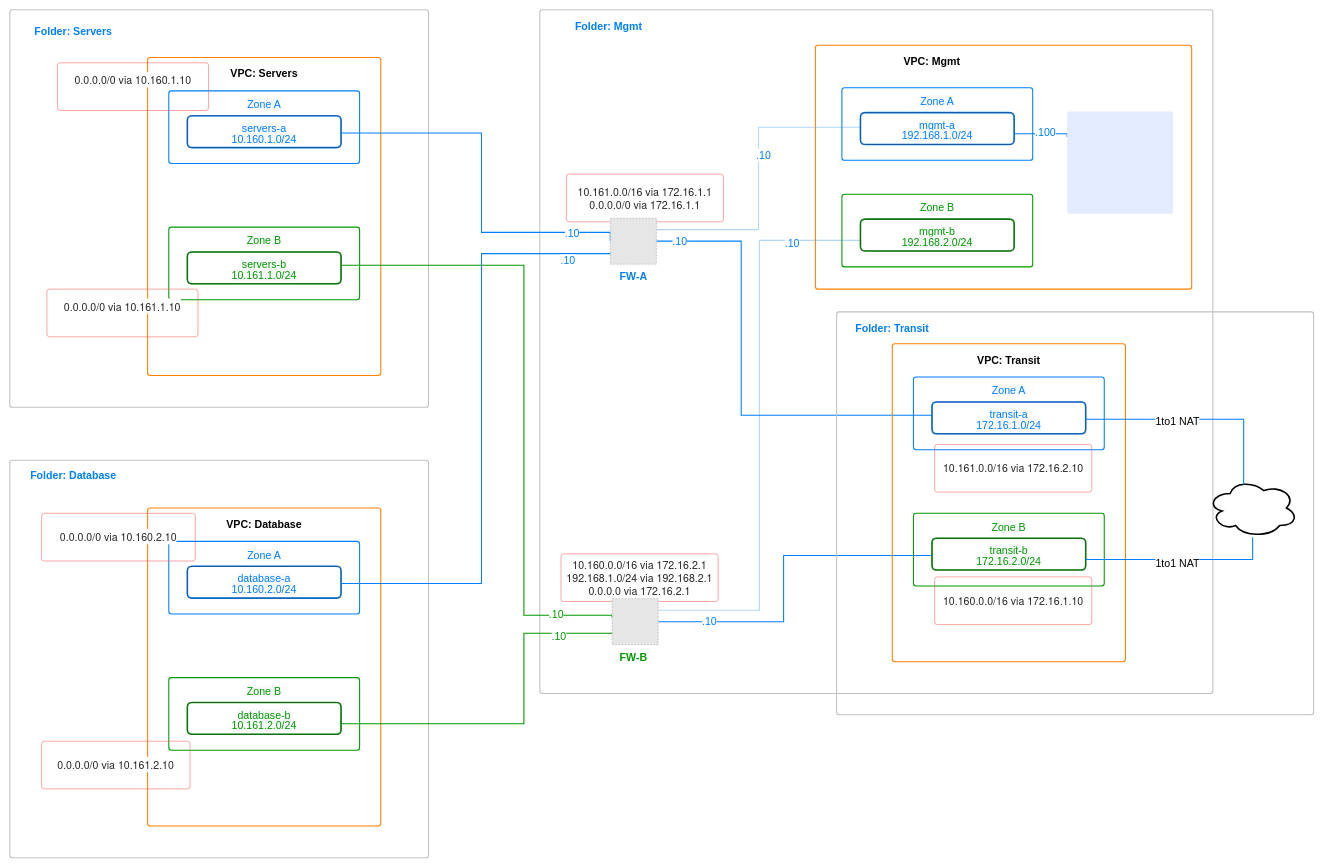
The diagram is 1323 pixels wide and 867 high, and some of its shapes have lost their labels. Grey dashed boxes stand in for pictures. The centre of each missing label's shape, as x and y in pixels:
"Inet" goes at (x=1252, y=508).
"mgmt-server" goes at (x=1120, y=162).
